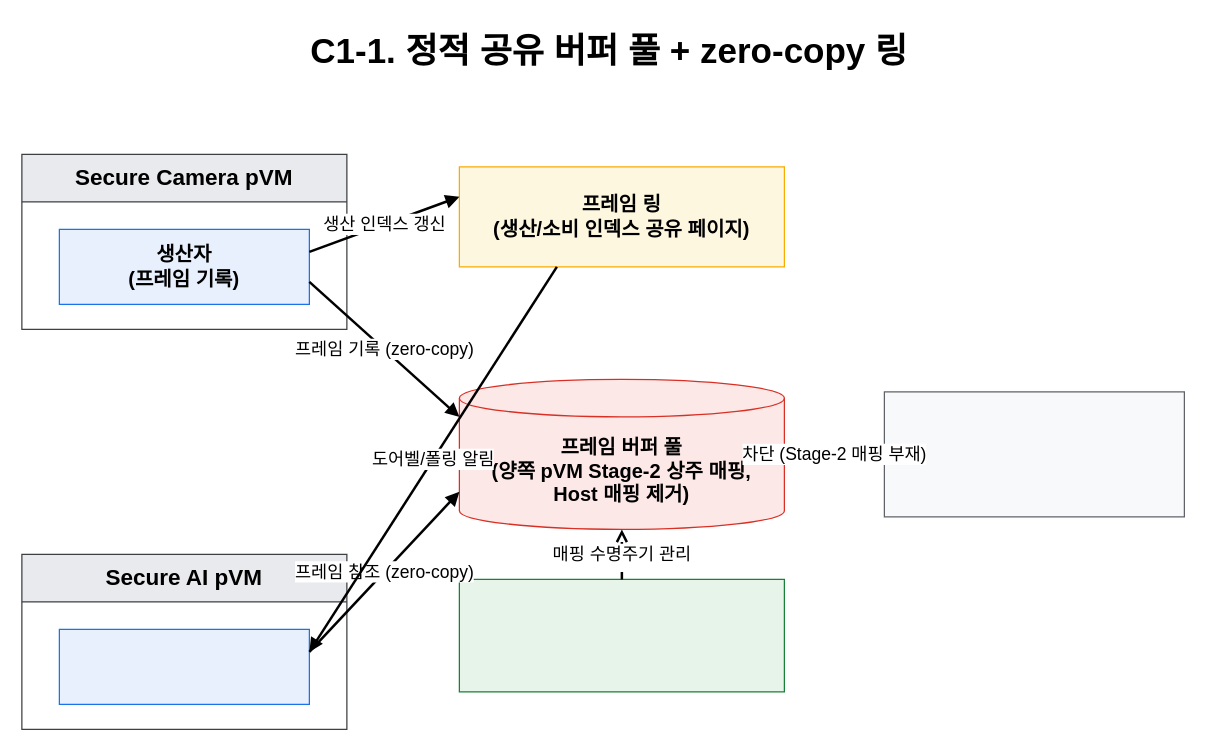
Image size: 1206x751. Some labels were removed from this diagram. The box of each missing label's shape, as (x1, y1, x2, y2) in pixels:
Host (비신뢰) 매핑 없음 - 접근 불가: (883, 391, 1184, 517)
pKVM (EL2) 구성 시 1회 share + Host unmap: (458, 578, 784, 692)
소비자 (프레임 추론): (58, 628, 309, 704)
